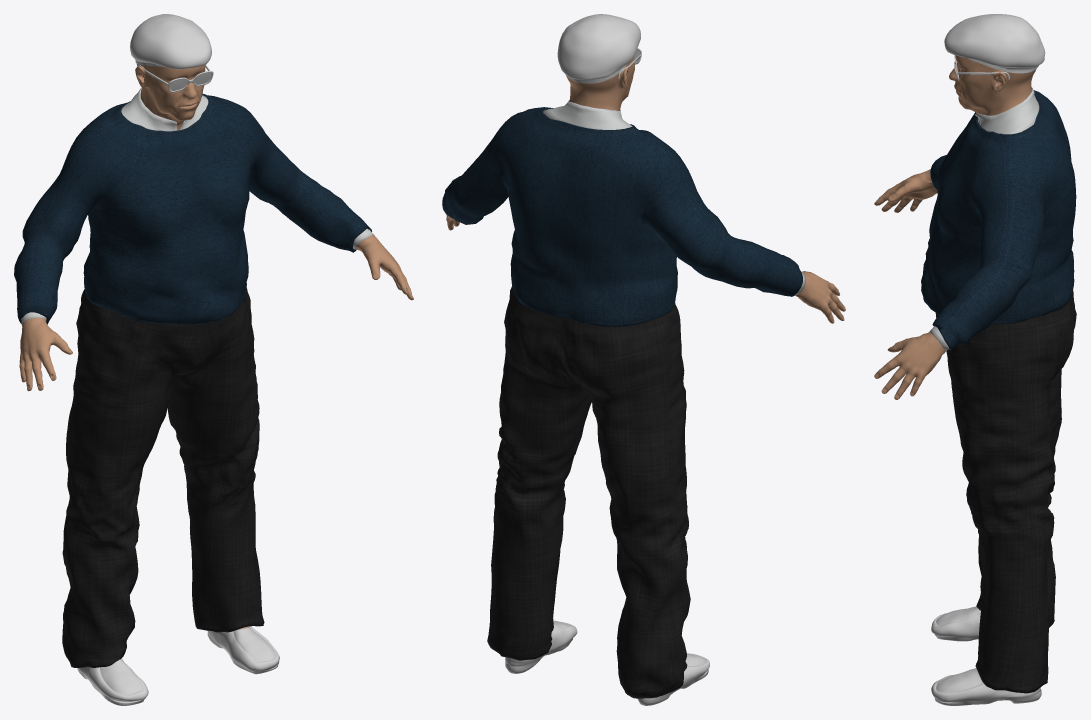
The model's file is OldManErnest_NoRig.obj.
3 views of the same model, side by side, from view 1: azimuth 30°, elevation 25°; view 2: azimuth 150°, elevation 25°; view 3: azimuth 270°, elevation 25° (orthographic).
Visible parts, largest first — view 1: Pants, Pullover, Ernest, Hat, ShoeL, ShoeR, ErnestShirt; view 2: Pants, Pullover, Hat, Ernest, ErnestShirt, ShoeL, ShoeR; view 3: Pants, Pullover, Ernest, Hat, ShoeL, ErnestShirt, ShoeR.
Part boxes in pixels (x1,y1,x2,y2): Pants: [62, 288, 264, 667]; Pullover: [14, 94, 371, 324]; Ernest: [19, 63, 413, 628]; Hat: [130, 14, 211, 69]; ShoeL: [207, 626, 279, 674]; ShoeR: [77, 658, 148, 705]; ErnestShirt: [21, 87, 374, 326]; Pants: [487, 287, 690, 698]; Pullover: [442, 107, 802, 326]; Hat: [557, 14, 640, 83]; Ernest: [446, 57, 845, 323]; ErnestShirt: [543, 100, 805, 295]; ShoeL: [505, 620, 577, 673]; ShoeR: [638, 653, 709, 705]; Pants: [935, 290, 1076, 693]; Pullover: [921, 90, 1076, 350]; Ernest: [874, 55, 1036, 399]; Hat: [944, 14, 1045, 73]; ShoeL: [931, 668, 1041, 705]; ErnestShirt: [929, 87, 1039, 350]; ShoeR: [931, 606, 980, 641].
Bounding box in the file's own units: 1.14 × 1.84 × 0.5187.
